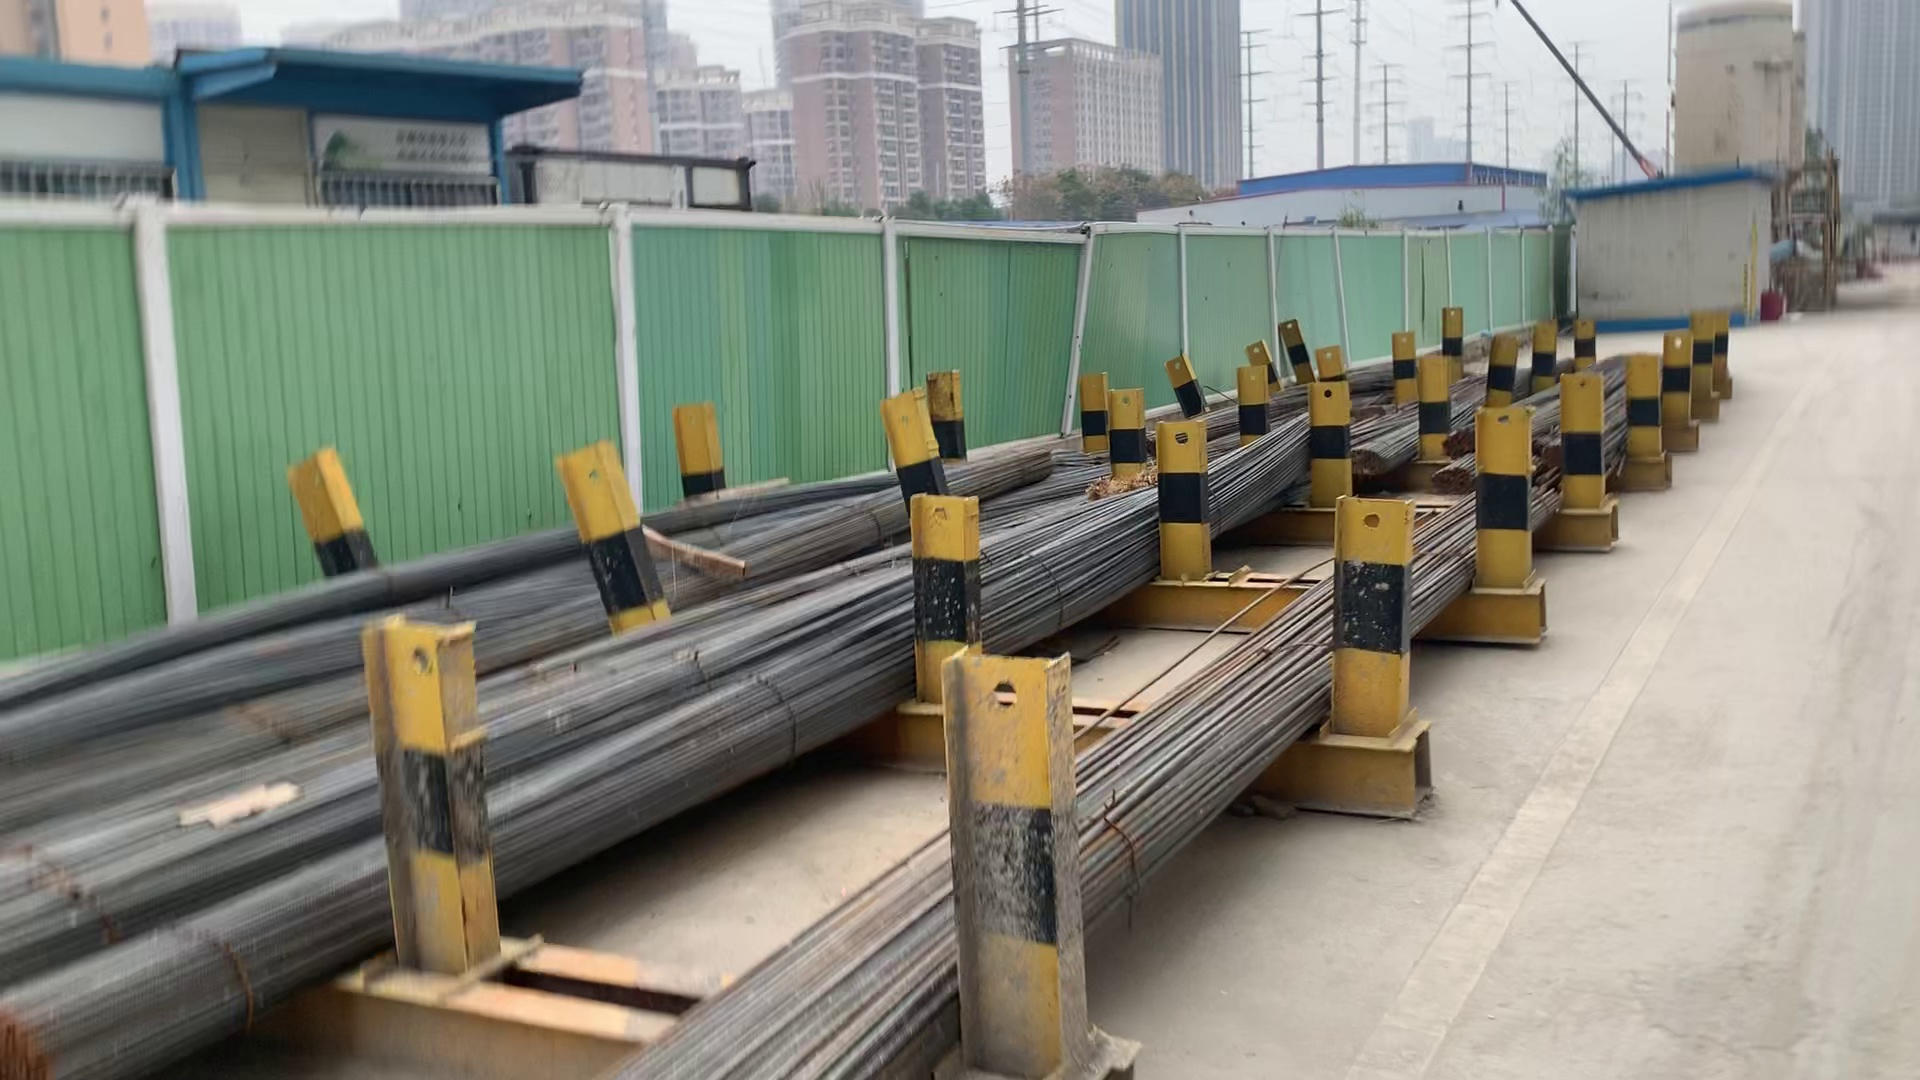rebar: (1345, 442, 1389, 477), (1431, 462, 1477, 495), (1433, 426, 1481, 458)
